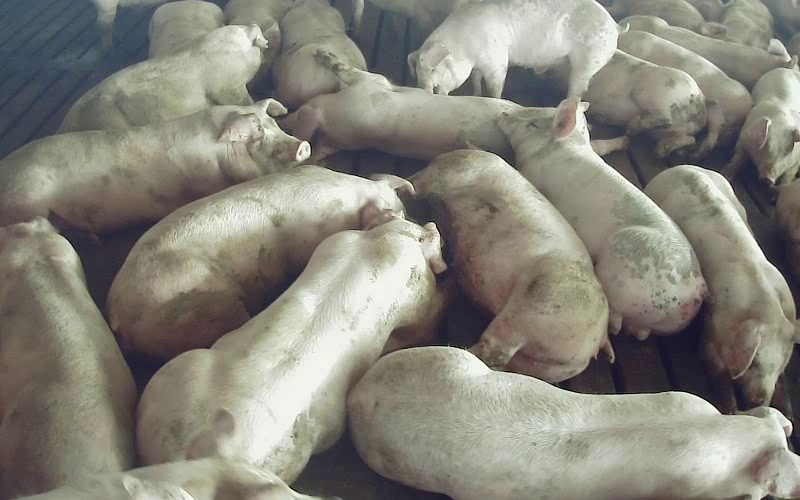pig: (137, 213, 445, 482), (348, 347, 799, 499), (498, 99, 705, 338), (410, 149, 610, 381), (0, 99, 309, 233), (645, 165, 799, 406), (282, 52, 516, 159), (59, 25, 266, 132), (409, 0, 617, 97), (618, 31, 751, 157), (583, 50, 706, 157), (723, 68, 799, 185)
